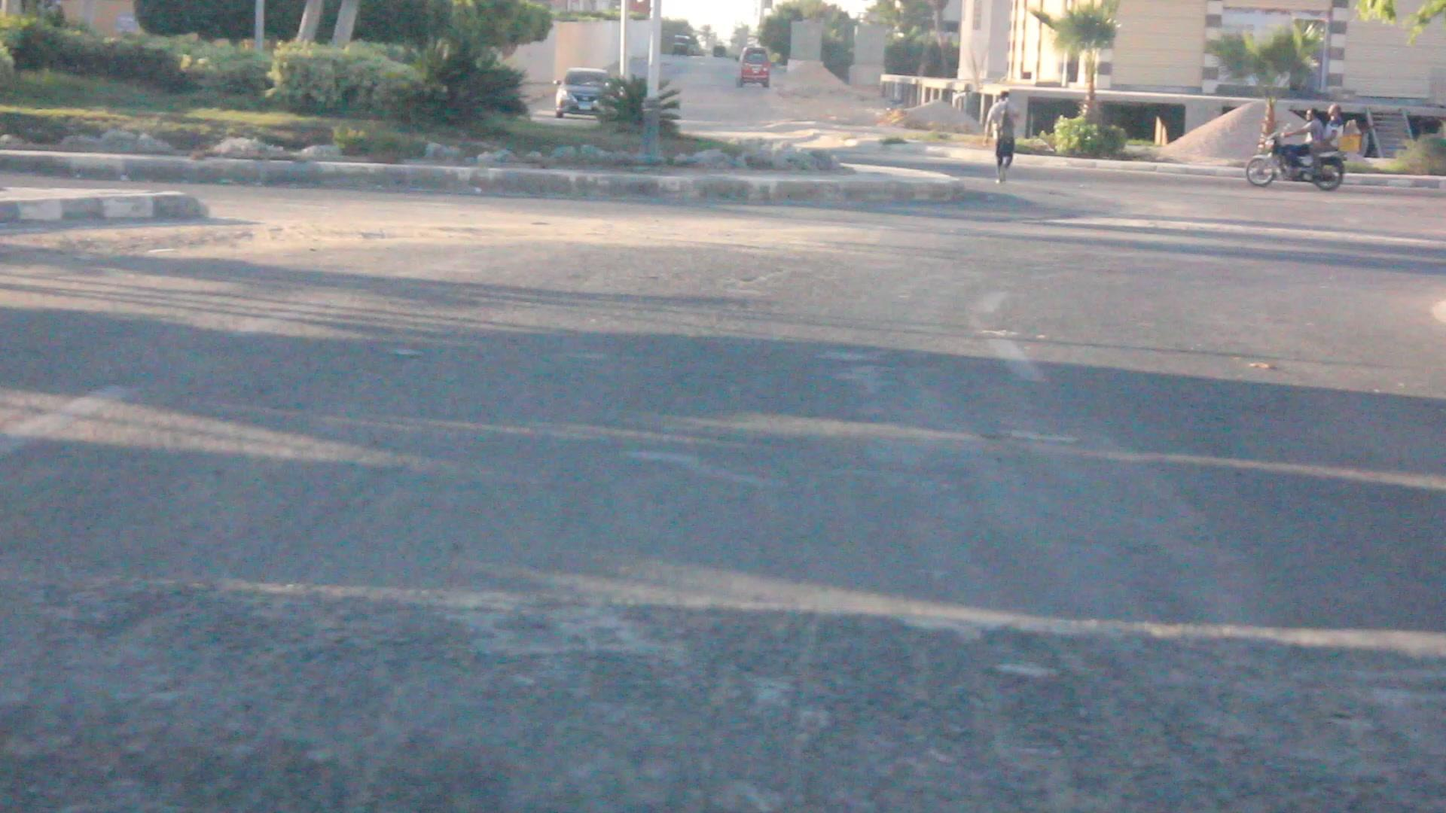Bump: (26, 574, 1446, 813)
